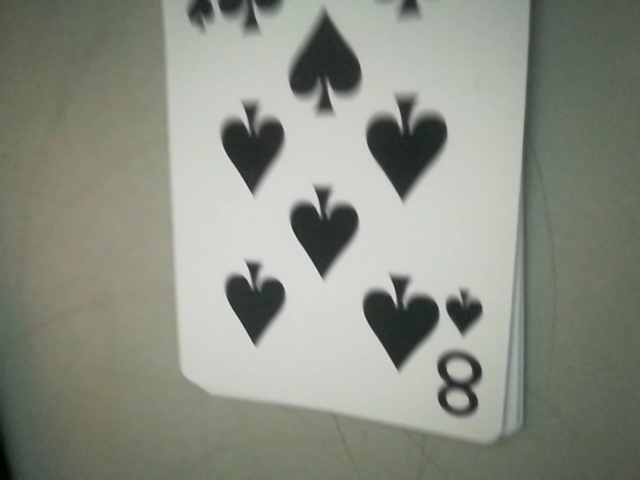ht 8: (426, 283, 495, 428)
